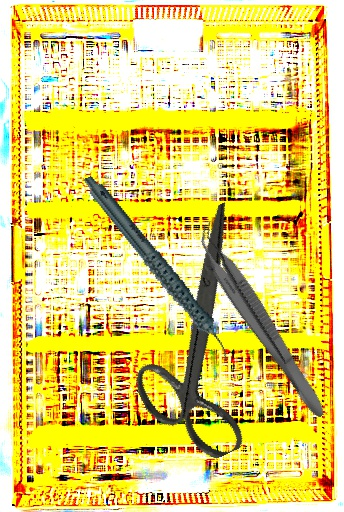Handpiece: (81, 153, 234, 385)
Iris Scissors: (81, 202, 322, 477)
Tissue Forceps: (185, 220, 339, 422)
